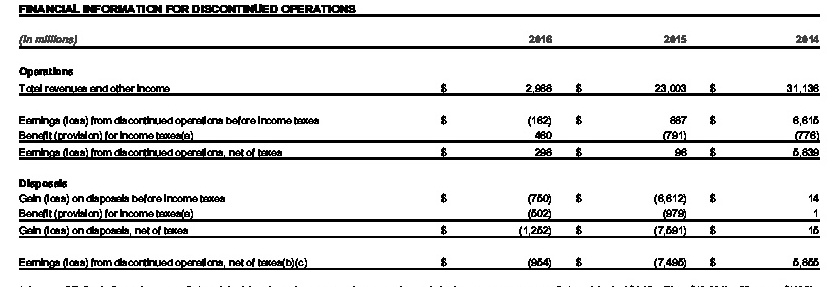table: (0, 0, 839, 287)
